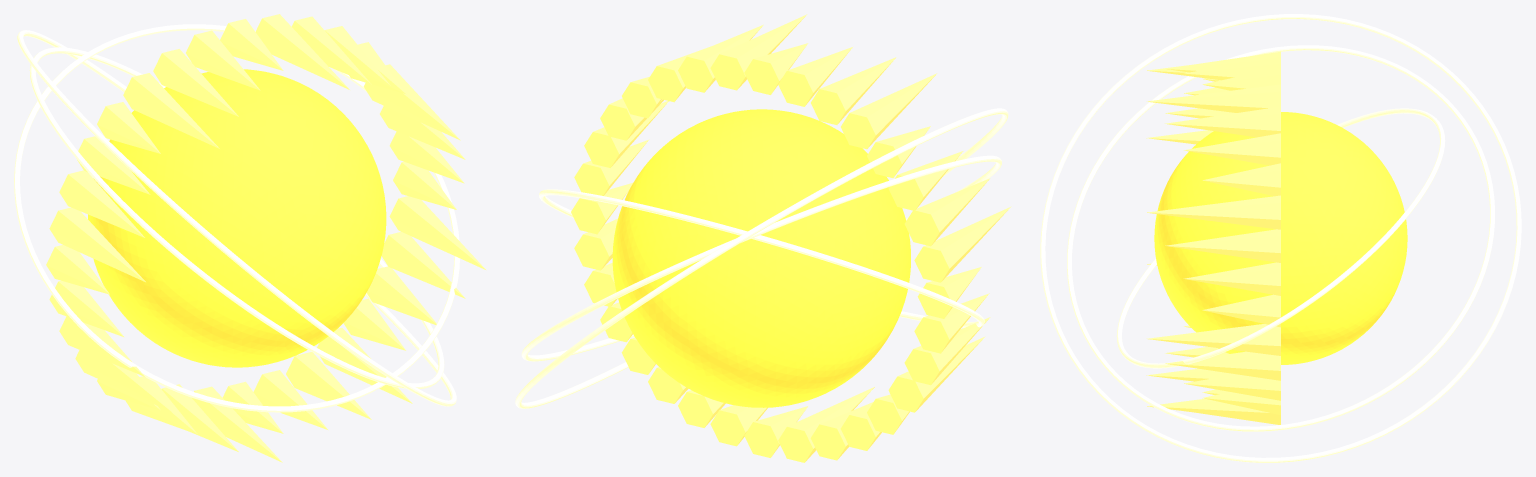
The model's file is solar.glb.
The picture shows the model from 3 angles, left to right: view 1: azimuth 30°, elevation 25°; view 2: azimuth 150°, elevation 25°; view 3: azimuth 270°, elevation 25°; orthographic projection. The views are drawn at different scales.
Visible parts, largest first — view 1: solar_part_000, solar_part_033, solar_part_035, solar_part_034, solar_part_012, solar_part_016, solar_part_032, solar_part_008, solar_part_011, solar_part_015, solar_part_031, solar_part_027 (+24 smaller); view 2: solar_part_000, solar_part_035, solar_part_034, solar_part_033, solar_part_012, solar_part_016, solar_part_008, solar_part_015, solar_part_011, solar_part_024, solar_part_010, solar_part_019 (+24 smaller); view 3: solar_part_000, solar_part_035, solar_part_034, solar_part_033, solar_part_004, solar_part_008, solar_part_032, solar_part_003, solar_part_007, solar_part_031, solar_part_002, solar_part_006 (+10 smaller).
Part boxes in pixels (box(x1,y1,x2,y2)): solar_part_000: box(88, 69, 386, 367); solar_part_033: box(14, 24, 459, 412); solar_part_035: box(17, 30, 456, 406); solar_part_034: box(29, 47, 444, 388); solar_part_012: box(123, 73, 219, 148); solar_part_016: box(49, 207, 145, 282); solar_part_032: box(389, 196, 485, 269); solar_part_008: box(255, 14, 349, 89); solar_part_011: box(153, 49, 238, 116); solar_part_015: box(59, 170, 144, 237); solar_part_031: box(381, 232, 465, 298); solar_part_027: box(286, 352, 371, 419); solar_part_000: box(612, 109, 910, 407); solar_part_035: box(515, 108, 1008, 408); solar_part_034: box(521, 155, 1001, 361); solar_part_033: box(539, 189, 984, 327); solar_part_012: box(841, 73, 937, 149); solar_part_016: box(914, 206, 1011, 282); solar_part_008: box(710, 14, 807, 90); solar_part_015: box(904, 178, 990, 246); solar_part_011: box(811, 57, 896, 124); solar_part_024: box(778, 387, 874, 462); solar_part_010: box(778, 47, 852, 106); solar_part_019: box(904, 317, 990, 385); solar_part_000: box(1154, 112, 1407, 364); solar_part_035: box(1040, 14, 1521, 462); solar_part_034: box(1067, 45, 1494, 431); solar_part_033: box(1116, 108, 1445, 368); solar_part_004: box(1147, 195, 1280, 229); solar_part_008: box(1146, 84, 1280, 112); solar_part_032: box(1146, 324, 1280, 355); solar_part_003: box(1165, 229, 1280, 262); solar_part_007: box(1165, 106, 1280, 137); solar_part_031: box(1165, 351, 1280, 380); solar_part_002: box(1183, 262, 1280, 295); solar_part_006: box(1184, 133, 1280, 165).
Bounding box in the file's own units: 2.17 × 2.03 × 2.65.
